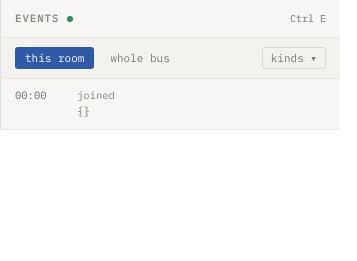
Test: the kinds filter offers the kinds actually present, not a hardcoded list
Click the button "whole bus" at (140, 58), box left=100, top=47, right=180, bottom=69
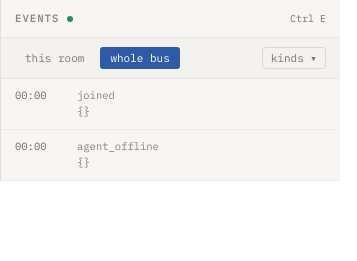
Click the button with test id "kinds-toggle" at (294, 58), box left=262, top=47, right=326, bottom=69
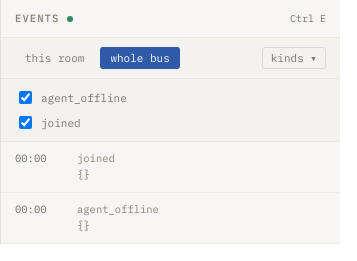
Now the checkbox labelled "joined" is shown, box left=19, top=116, right=32, bottom=129
Now the checkbox labelled "agent_offline" is shown, box left=19, top=91, right=32, bottom=104
